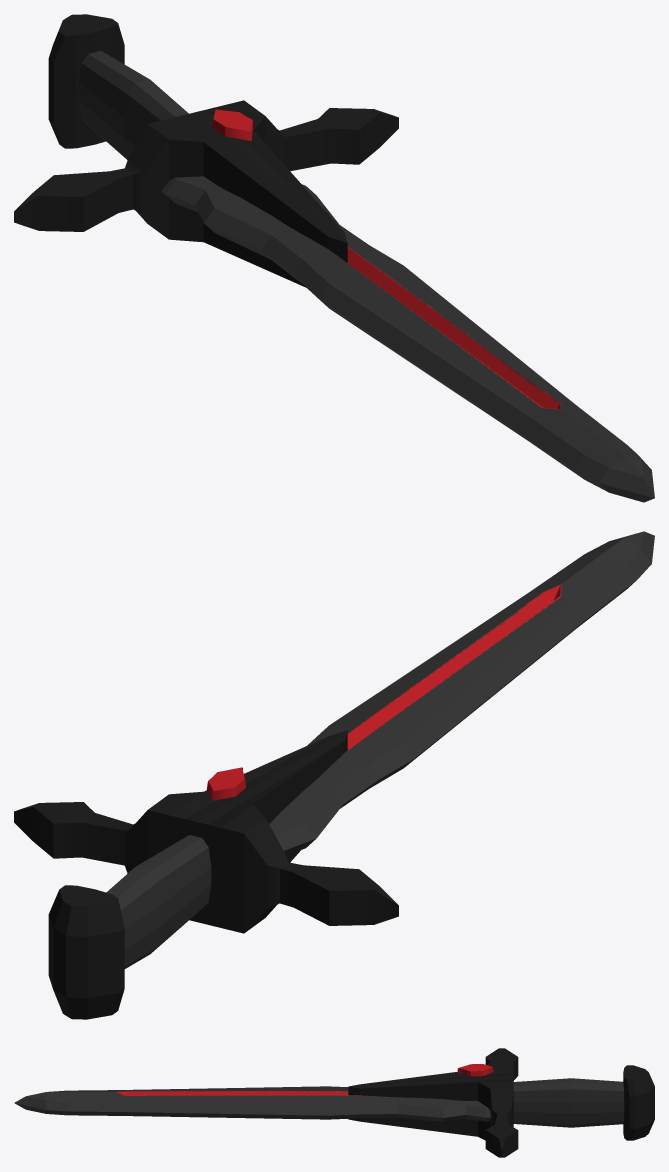
The model's file is 2Tier_Sword_fix.fbx.
3 views of the same model, one above another, from view 1: azimuth 30°, elevation 25°; view 2: azimuth 150°, elevation 25°; view 3: azimuth 270°, elevation 25° (orthographic). The views are drawn at different scales.
Visible parts, largest first — view 1: polySurface6; view 2: polySurface6; view 3: polySurface6.
Part boxes in pixels (<box>): polySurface6: <box>14,14,654,502</box>; polySurface6: <box>14,531,654,1019</box>; polySurface6: <box>14,1048,654,1157</box>.
Size of the model in its own units: 49.88 by 15.21 by 132.
Materials: 4 (4 with a texture image).
